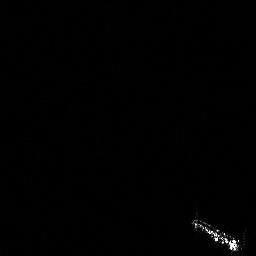ship: (186, 211, 248, 255)
